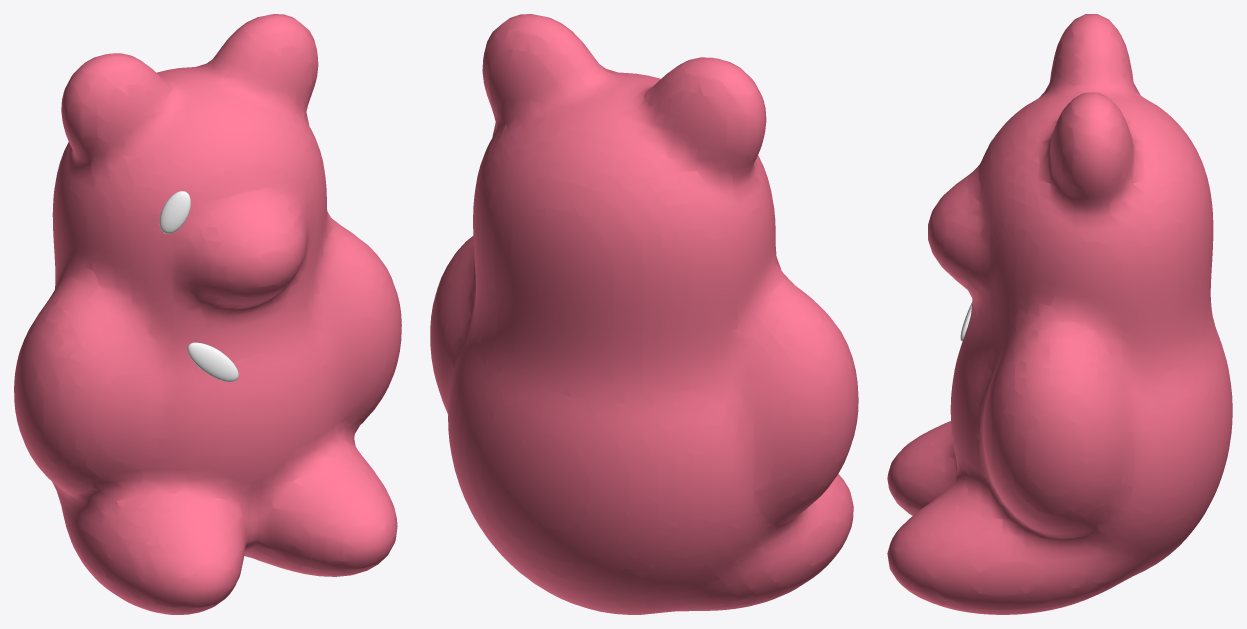
File: RockGummy.fbx
3 views of the same model, side by side, from view 1: azimuth 30°, elevation 25°; view 2: azimuth 150°, elevation 25°; view 3: azimuth 270°, elevation 25° (orthographic). The views are drawn at different scales.
Parts seen in each view (by area): view 1: RockGummy_Jelly, RockGummy_Shine; view 2: RockGummy_Jelly; view 3: RockGummy_Jelly.
Part boxes in pixels (x1,y1,x2,y2): RockGummy_Jelly: (14,14,401,614); RockGummy_Shine: (159,191,238,381); RockGummy_Jelly: (430,14,858,614); RockGummy_Jelly: (887,14,1232,614).
Bounding box in the file's own units: 163 × 215 × 132.
